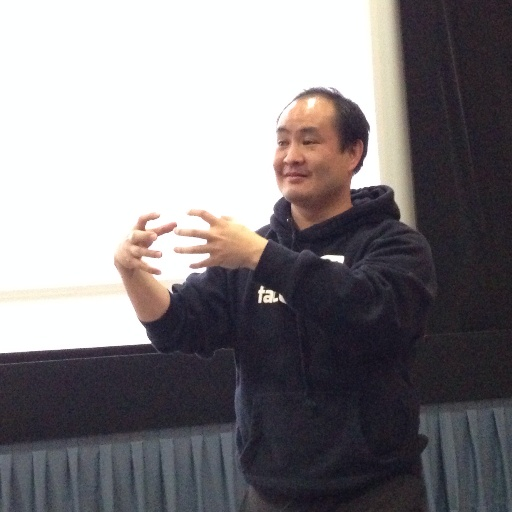hand: (173, 208, 261, 272), (111, 211, 178, 275)
